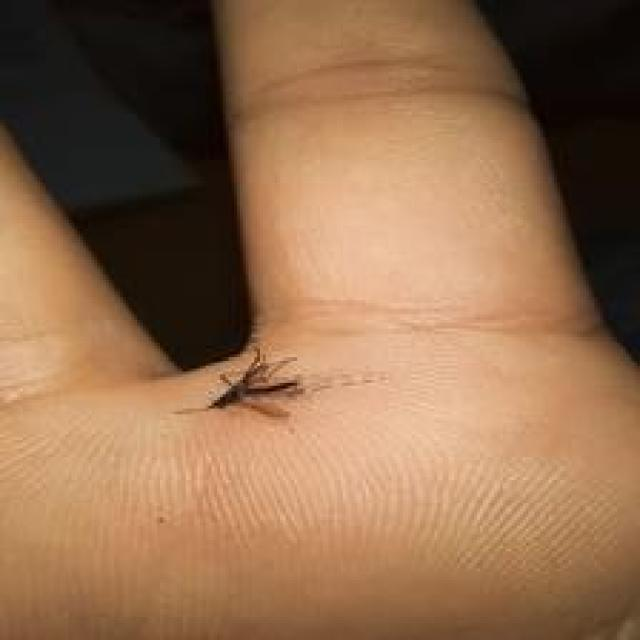Aedes albopictus: (203, 346, 303, 417)
